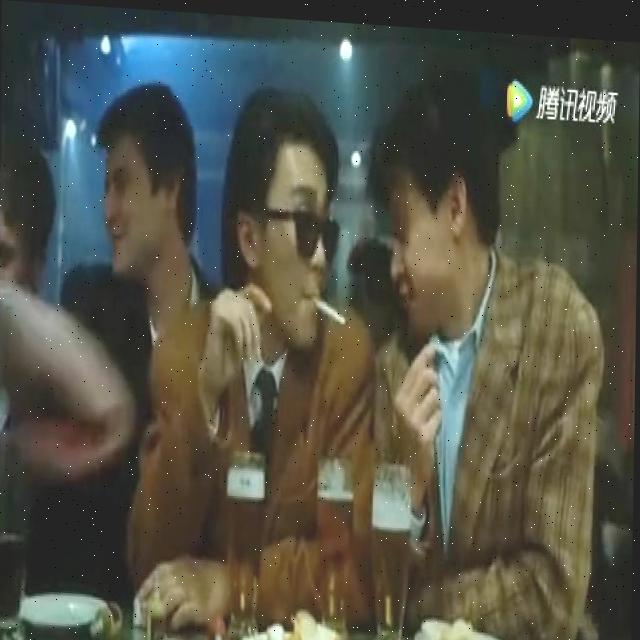cigarette: (311, 293, 348, 320)
